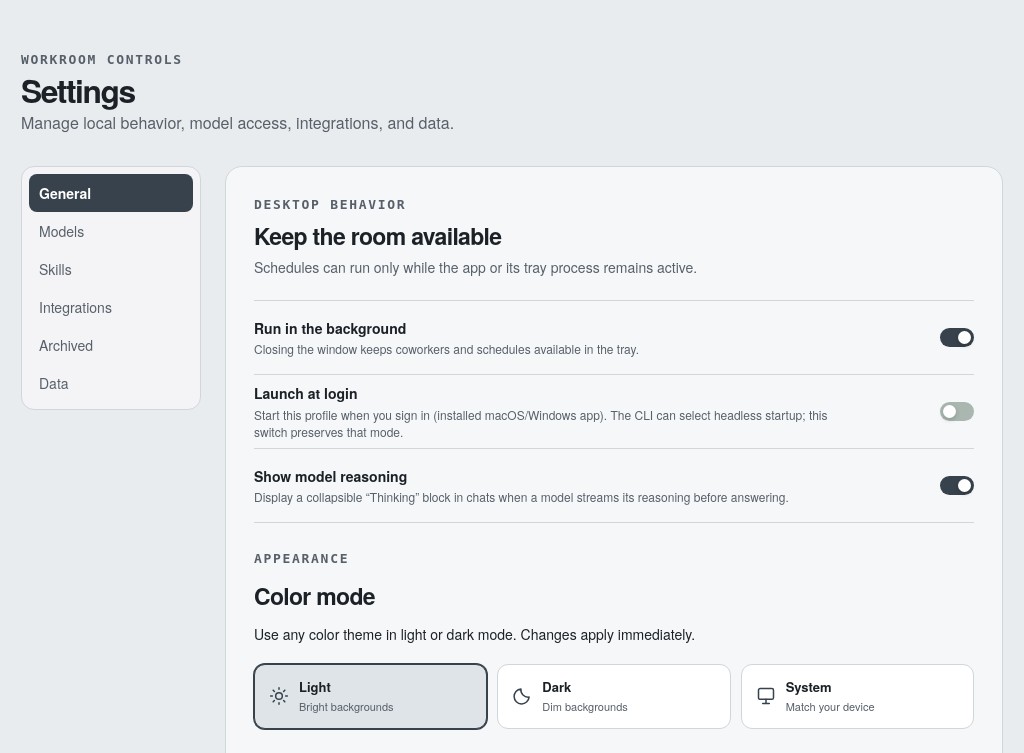
it: provider diagnostics settings › shows recent errors and creates a copyable support report
Click the button "Data".
click(111, 383)  # box [29, 364, 193, 402]
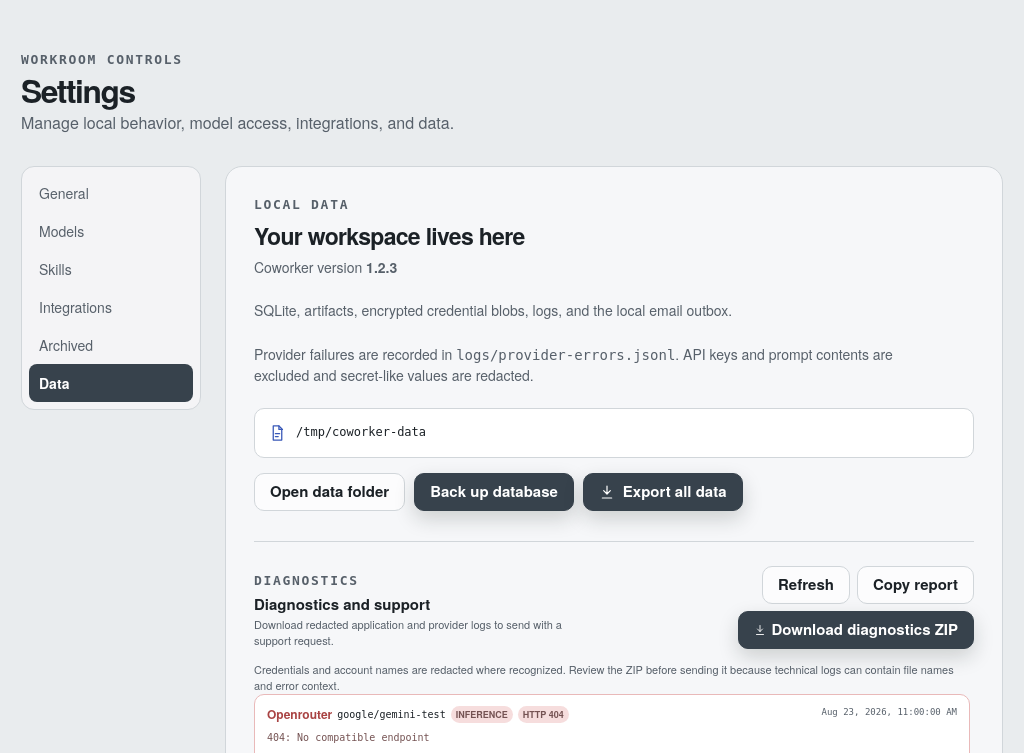
Expected: the text "404: No compatible endpoint" is shown, [267, 732, 430, 744]
Expected: the text "1.2.3" is shown, [366, 257, 397, 277]
Click the button "Copy report".
click(915, 585)  # box [857, 566, 974, 604]
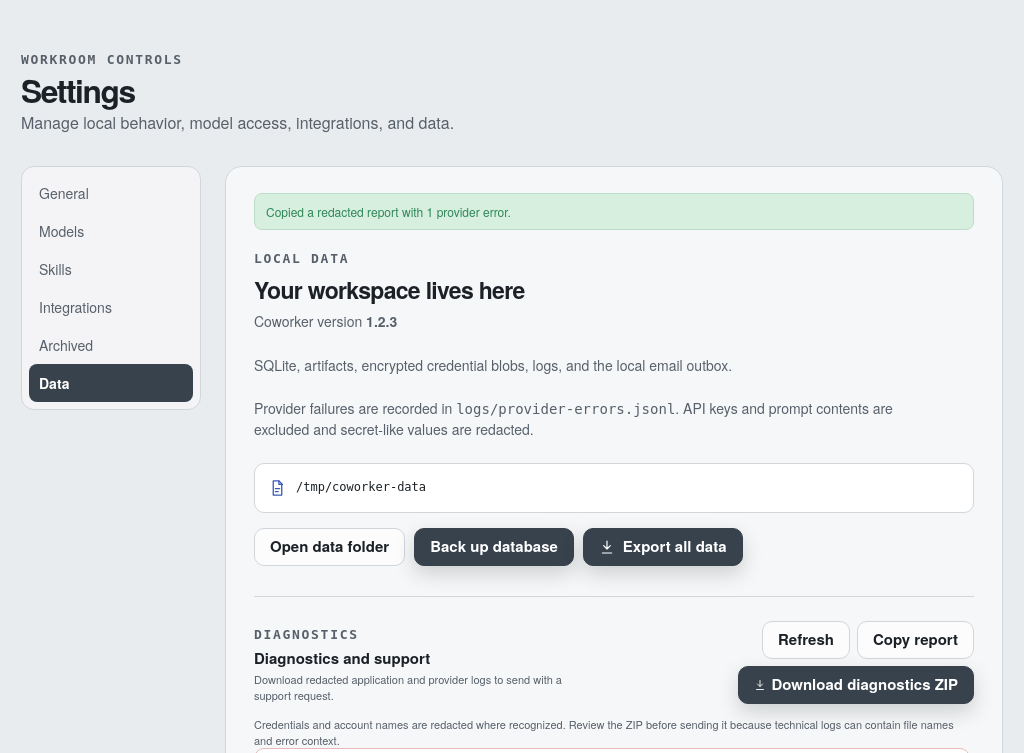
Expected: the message reads "Copied a redacted report with 1 provider error.", [266, 203, 511, 220]
Click the button "Download diagnostics ZIP".
click(856, 685)  # box [738, 666, 974, 704]
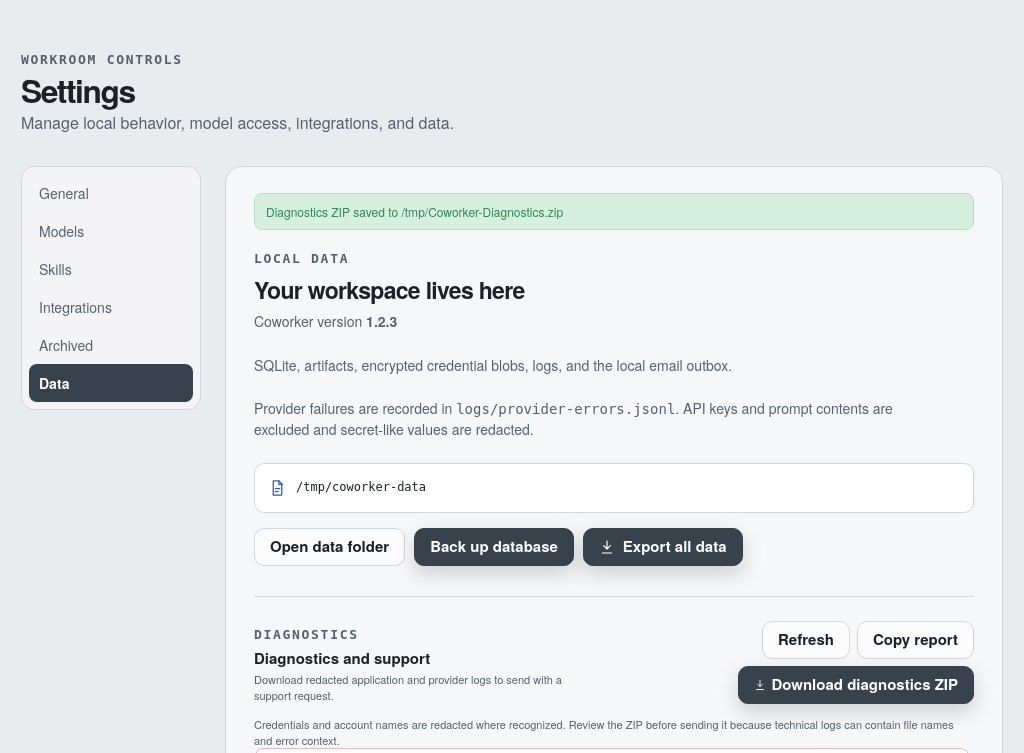
Expected: the message shows "Diagnostics ZIP saved", [266, 203, 563, 220]
Click the button "Export all data".
click(663, 547)  # box [583, 528, 743, 566]
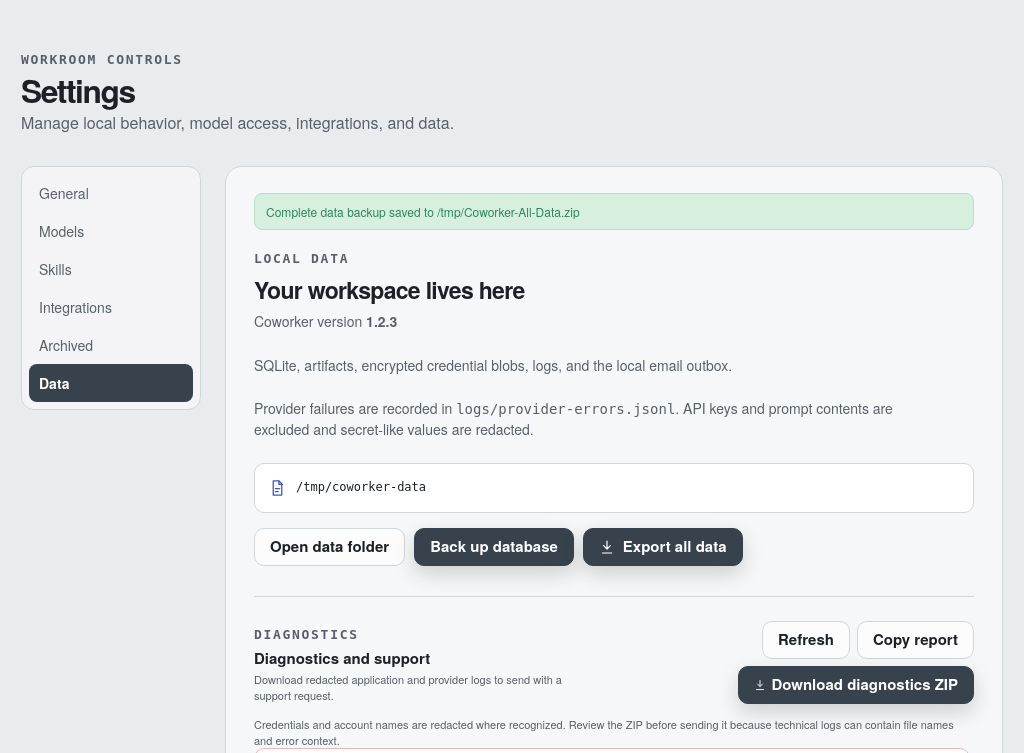
Expected: the message shows "Complete data backup saved", [266, 203, 580, 220]
